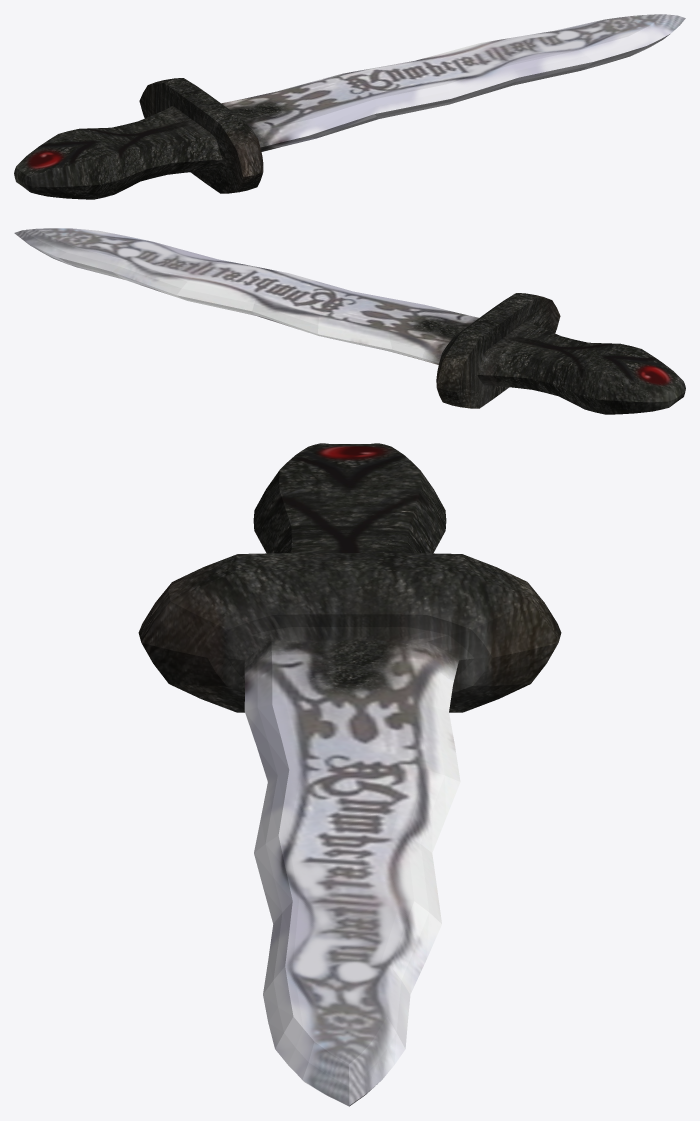
Rendered from rumpledg.OBJ.
3 views of the same model, one above another, from view 1: azimuth 30°, elevation 25°; view 2: azimuth 150°, elevation 25°; view 3: azimuth 270°, elevation 25° (orthographic). The views are drawn at different scales.
Parts seen in each view (by area): view 1: ZBrush_defualt_group; view 2: ZBrush_defualt_group; view 3: ZBrush_defualt_group.
Boxes of the visible parts, x1,y1,x2,y2 form: ZBrush_defualt_group: (14,14,685,199); ZBrush_defualt_group: (14,228,685,414); ZBrush_defualt_group: (138,443,561,1106).
Size of the model in its own units: 14.21 by 1.47 by 3.91.
